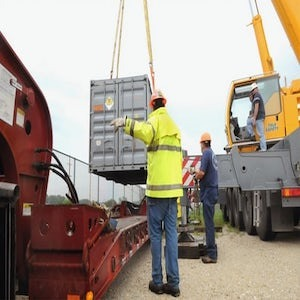safety: (150, 89, 167, 103), (200, 133, 213, 143)
vest: (145, 109, 183, 199)
